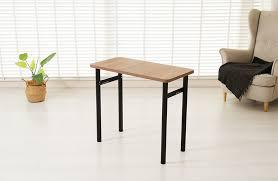desk: (78, 43, 204, 173)
